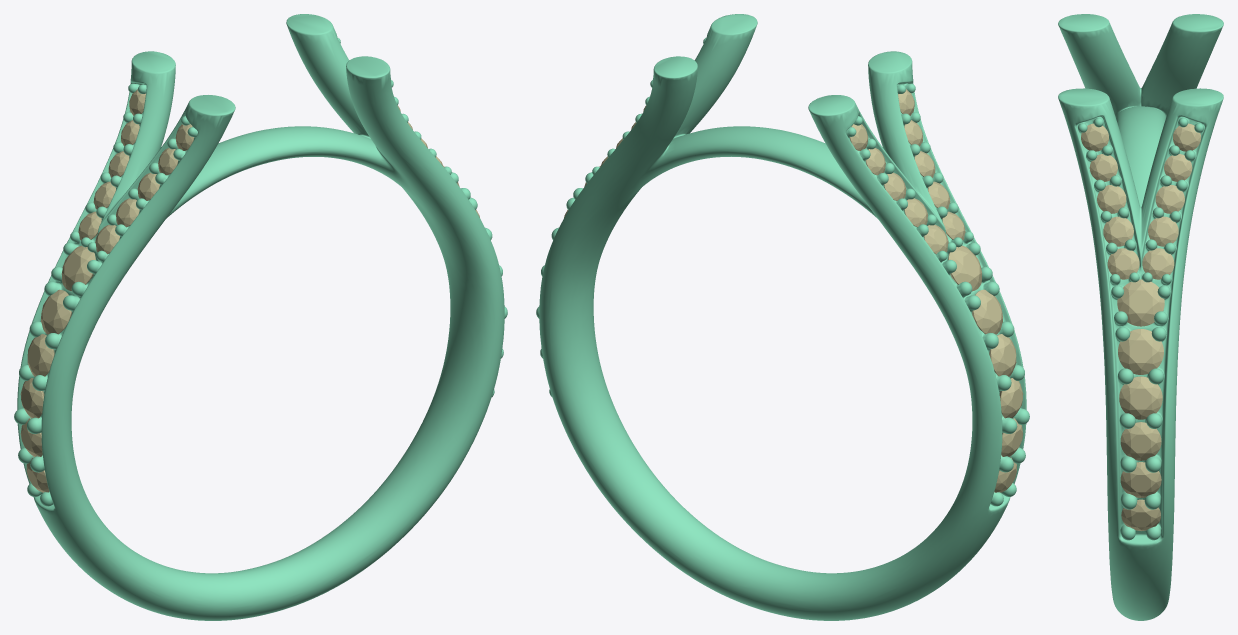
The picture shows the model from 3 angles, left to right: view 1: azimuth 30°, elevation 25°; view 2: azimuth 150°, elevation 25°; view 3: azimuth 270°, elevation 25°; orthographic projection. The views are drawn at different scales.
Visible parts, largest first — view 1: Metal02, Diamond_Gem.015, Diamond_Gem.003, Diamond_Gem, Diamond_Gem.001; view 2: Metal02, Diamond_Gem.015, Diamond_Gem.003, Diamond_Gem, Diamond_Gem.001; view 3: Metal02, Diamond_Gem.016, Diamond_Gem.028, Diamond_Gem.031, Diamond_Gem.030, Diamond_Gem.029, Diamond_Gem.017, Diamond_Gem.019, Diamond_Gem.018, Diamond_Gem.027, Diamond_Gem.026, Diamond_Gem.021 (+5 smaller).
Part boxes in pixels (x1=…): Metal02: x1=14, y1=14, x2=507, y2=620; Diamond_Gem.015: x1=61, y1=245, x2=95, y2=291; Diamond_Gem.003: x1=41, y1=289, x2=71, y2=334; Diamond_Gem: x1=27, y1=334, x2=54, y2=376; Diamond_Gem.001: x1=20, y1=378, x2=44, y2=418; Metal02: x1=536, y1=14, x2=1029, y2=620; Diamond_Gem.015: x1=948, y1=245, x2=981, y2=291; Diamond_Gem.003: x1=972, y1=289, x2=1002, y2=334; Diamond_Gem: x1=989, y1=334, x2=1016, y2=376; Diamond_Gem.001: x1=999, y1=378, x2=1023, y2=418; Metal02: x1=1058, y1=14, x2=1223, y2=620; Diamond_Gem.016: x1=1117, y1=279, x2=1164, y2=326; Diamond_Gem.028: x1=1118, y1=329, x2=1163, y2=374; Diamond_Gem.031: x1=1119, y1=376, x2=1162, y2=419; Diamond_Gem.030: x1=1120, y1=422, x2=1161, y2=460; Diamond_Gem.029: x1=1120, y1=462, x2=1161, y2=497; Diamond_Gem.017: x1=1121, y1=499, x2=1160, y2=531; Diamond_Gem.019: x1=1142, y1=248, x2=1174, y2=279; Diamond_Gem.018: x1=1107, y1=248, x2=1139, y2=279; Diamond_Gem.027: x1=1148, y1=216, x2=1178, y2=246; Diamond_Gem.026: x1=1103, y1=216, x2=1133, y2=246; Diamond_Gem.021: x1=1155, y1=185, x2=1184, y2=213.
Size of the model in its own units: 21.12 by 23.09 by 6.47.
